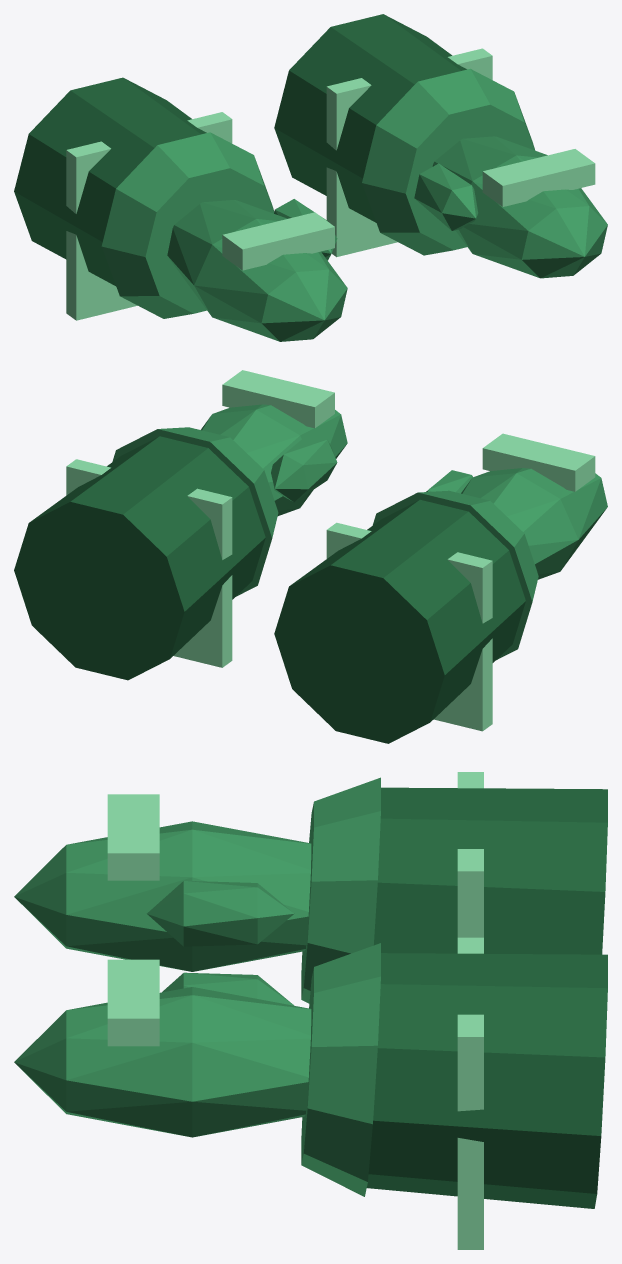
Rendered from drop_adamant_gauntlets.glb.
The picture shows the model from 3 angles, top to bottom: view 1: azimuth 30°, elevation 25°; view 2: azimuth 150°, elevation 25°; view 3: azimuth 270°, elevation 25°; orthographic projection. The views are drawn at different scales.
Visible parts, largest first — view 1: drop_adamant_gauntlets; view 2: drop_adamant_gauntlets; view 3: drop_adamant_gauntlets.
Part boxes in pixels (<box>): drop_adamant_gauntlets: <box>14,14,607,341</box>; drop_adamant_gauntlets: <box>14,370,607,743</box>; drop_adamant_gauntlets: <box>14,772,607,1249</box>.
Size of the model in its own units: 0.2384 by 0.0976 by 0.2184.
